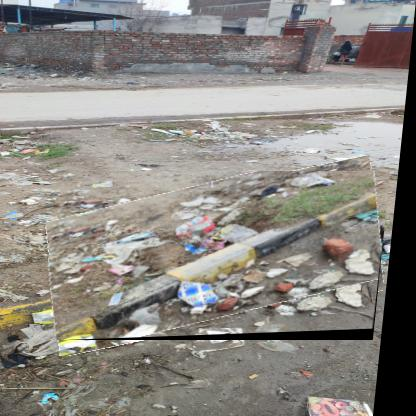Garbage: (48, 172, 396, 342)
